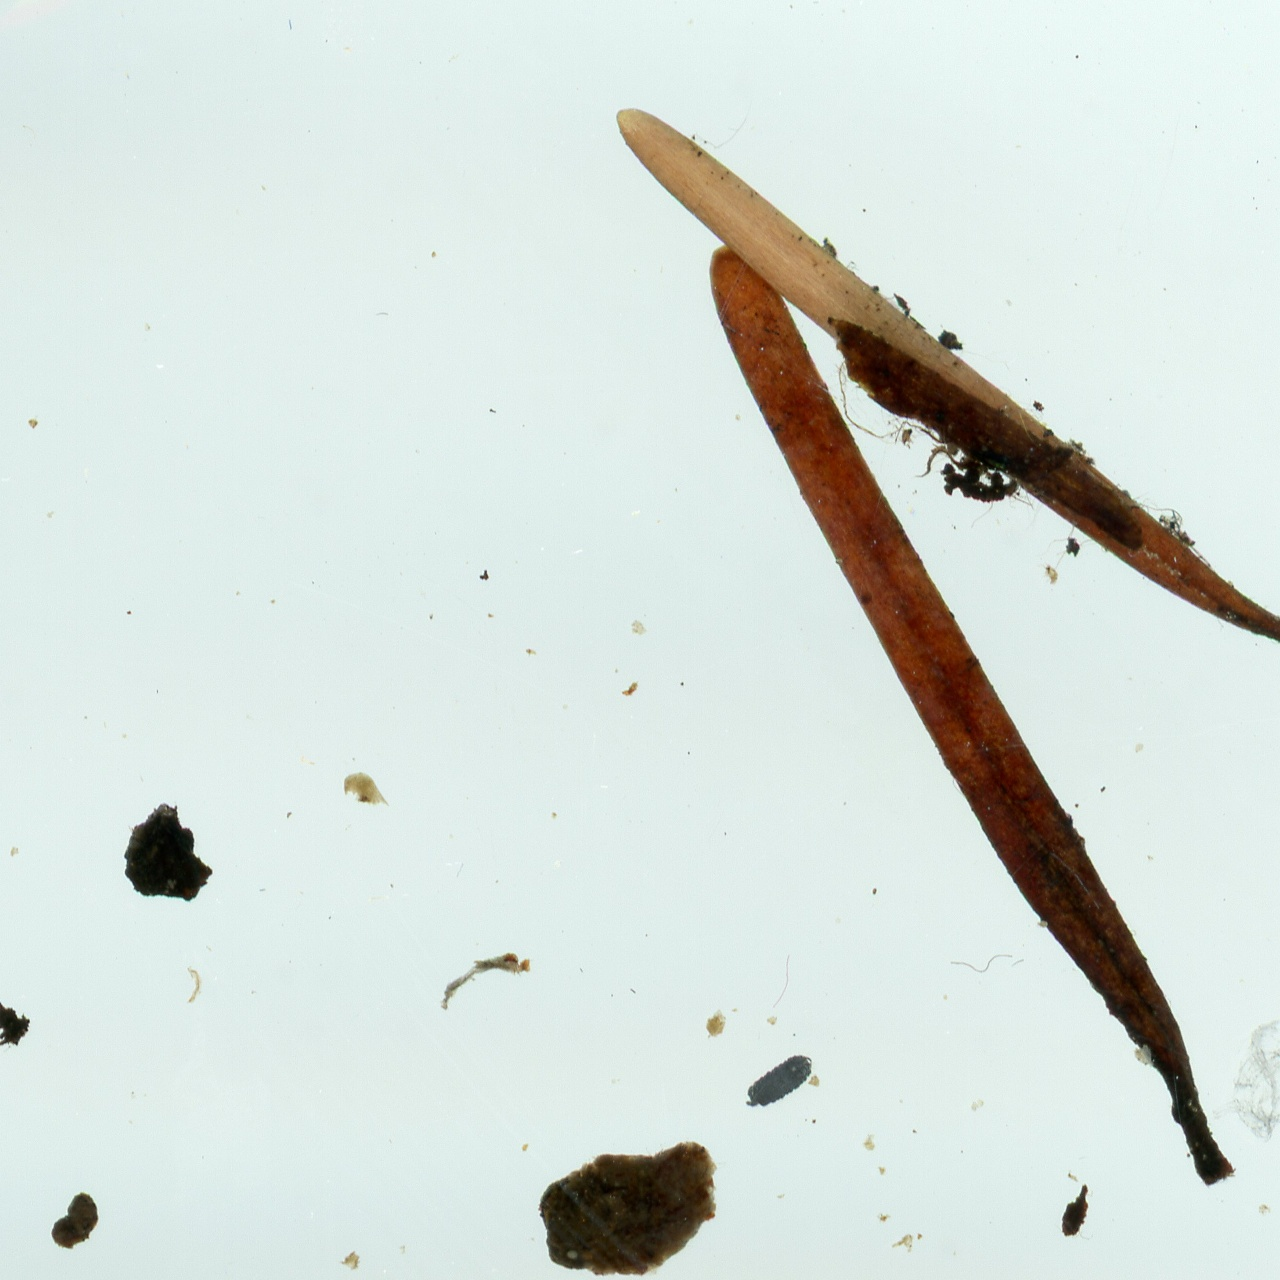arthropod: (0, 0, 143, 1009), (735, 1041, 824, 1124)
